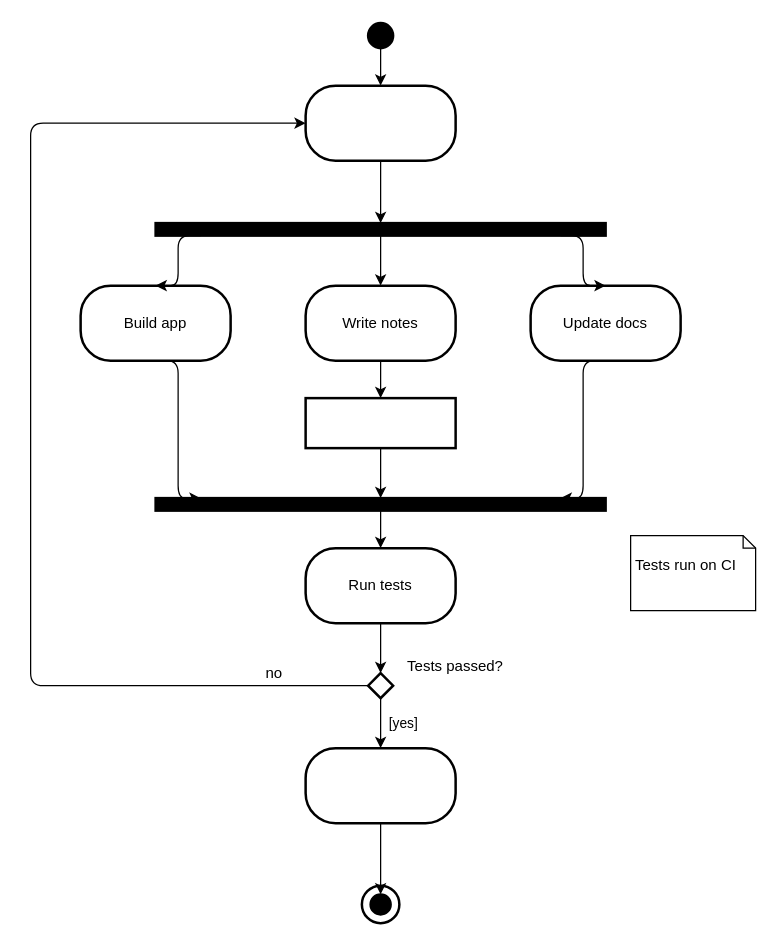
Image size: 778x945. Some labels were removed from this diagram. The shapes that lost their labels are listed below. From the top down, each one's centre as x and y in pixels, then its label:
the point at 380,122: Plan release
the point at 380,422: Release notes
the point at 380,785: Publish
